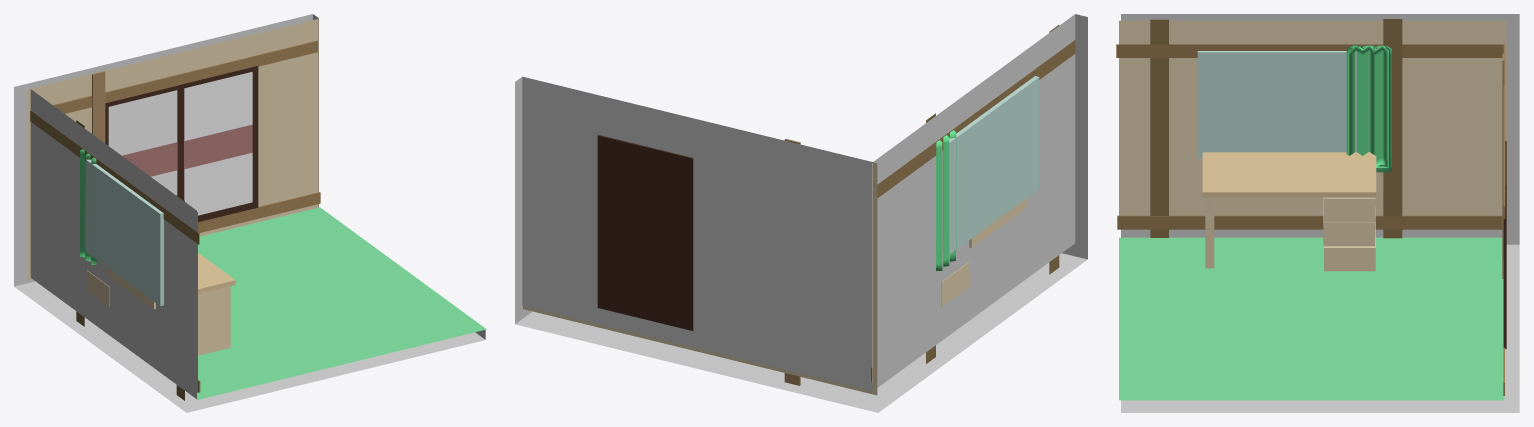
File: heya2.glb
The picture shows the model from 3 angles, left to right: view 1: azimuth 30°, elevation 25°; view 2: azimuth 150°, elevation 25°; view 3: azimuth 270°, elevation 25°; orthographic projection. The views are drawn at different scales.
Visible parts, largest first — view 1: room, floor, 平面.003, 立方体.006, 平面.012, 平面.011, 平面.006, 平面.013, 立方体.001, 平面.014, 平面.005, 平面.007 (+6 smaller); view 2: room, 平面.013, 立方体.006, 平面.003, 平面.005, カーテン, 立方体.007, 立方体; view 3: floor, 平面.004, room, 立方体.006, 立方体.002, カーテン, 平面.002, 平面.005, 平面.001, 平面, 立方体.004, 立方体.003 (+6 smaller).
Part boxes in pixels (x1,y1,x2,y2): room: (14,14,485,412); floor: (197,207,486,399); 平面.003: (27,19,318,280); 立方体.006: (86,159,163,306); 平面.012: (184,71,252,215); 平面.011: (108,90,177,195); 平面.006: (30,40,317,121); 平面.013: (179,66,258,222); 立方体.001: (198,286,230,355); 平面.014: (184,124,252,169); 平面.005: (31,110,199,244); 平面.007: (198,192,320,232); room: (515,14,1087,412); 平面.013: (597,135,693,330); 立方体.006: (949,76,1039,254); 平面.003: (523,162,877,395); 平面.005: (877,40,1075,198); カーテン: (936,130,956,270); 立方体.007: (941,262,969,306); 立方体: (969,198,1027,247); floor: (1119,237,1504,400); 平面.004: (1119,20,1506,215); room: (1121,14,1519,412); 立方体.006: (1197,51,1368,158); 立方体.002: (1202,152,1376,197); カーテン: (1346,45,1391,172); 平面.002: (1117,215,1502,229); 平面.005: (1116,44,1504,57); 平面.001: (1150,19,1168,237); 平面: (1383,19,1402,238); 立方体.004: (1324,206,1375,271); 立方体.003: (1323,197,1375,222).
Size of the model in its own units: 10.18 by 6.79 by 10.28.
